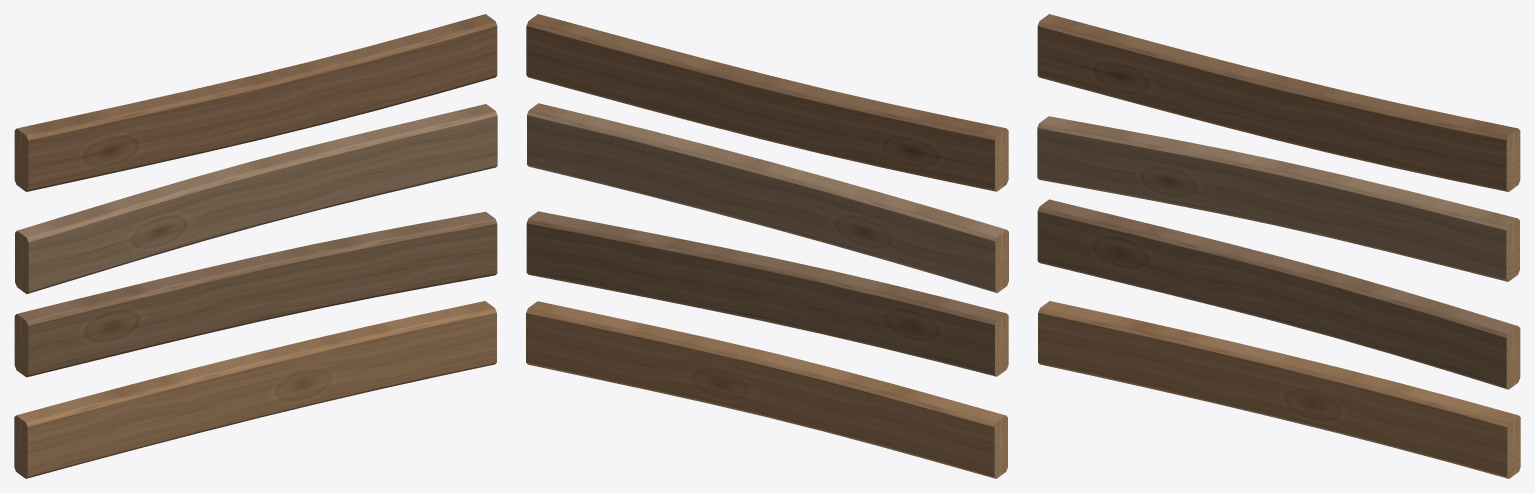
The model's file is fence_slats_02.glb.
3 renders of one model, left to right at view 1: azimuth 30°, elevation 25°; view 2: azimuth 150°, elevation 25°; view 3: azimuth 330°, elevation 25°, orthographic.
Visible parts, largest first — view 1: TileDecorationFenceSlats02; view 2: TileDecorationFenceSlats02; view 3: TileDecorationFenceSlats02.
Boxes of the visible parts, x1=… form: TileDecorationFenceSlats02: x1=14, y1=14, x2=497, y2=478; TileDecorationFenceSlats02: x1=526, y1=14, x2=1008, y2=478; TileDecorationFenceSlats02: x1=1037, y1=14, x2=1520, y2=478.
Bounding box in the file's own units: 1 × 0.7 × 0.0534.
Materials: 1 (1 with a texture image).
